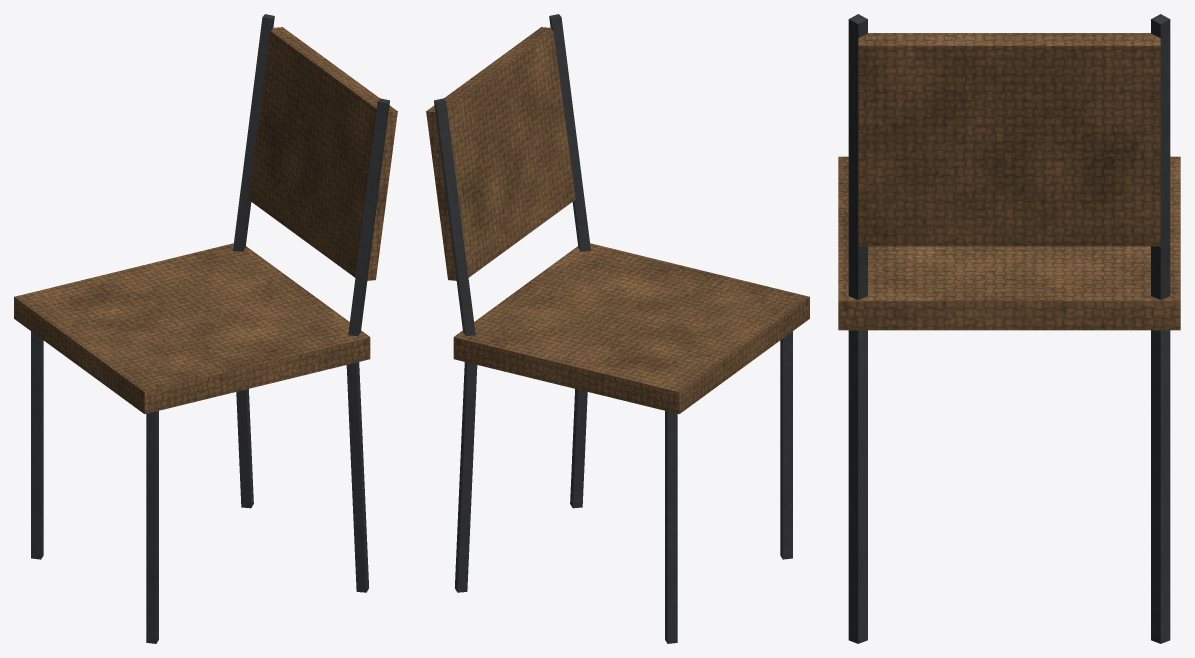
The model's file is SM_Morin_Sedia_LOD1.fbx.
3 renders of one model, left to right at view 1: azimuth 30°, elevation 25°; view 2: azimuth 150°, elevation 25°; view 3: azimuth 270°, elevation 25°, orthographic. The views are drawn at different scales.
Parts seen in each view (by area): view 1: SM_Morin_Sedia_LOD1; view 2: SM_Morin_Sedia_LOD1; view 3: SM_Morin_Sedia_LOD1.
Part boxes in pixels (<box>): SM_Morin_Sedia_LOD1: <box>14,14,397,643</box>; SM_Morin_Sedia_LOD1: <box>426,14,809,643</box>; SM_Morin_Sedia_LOD1: <box>838,14,1180,643</box>.
Bounding box in the file's own units: 49.66 × 43 × 88.22.
Materials: 1 (1 with a texture image).
